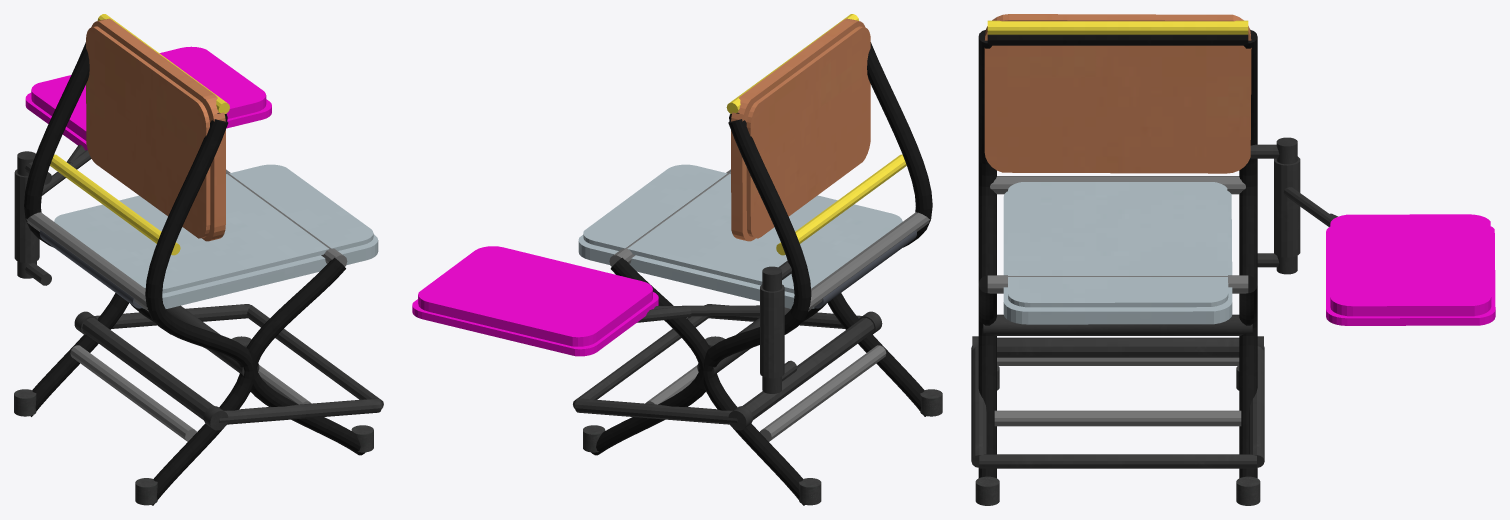
File: Chair_Folding_chair__0195.glb
The picture shows the model from 3 angles, left to right: view 1: azimuth 30°, elevation 25°; view 2: azimuth 150°, elevation 25°; view 3: azimuth 270°, elevation 25°; orthographic projection. The views are drawn at different scales.
Parts seen in each view (by area): view 1: seat_pan::seat_pad, rear_leg_frame::backrest_pad, rear_leg_frame::rear_upright_l, tablet_arm::tablet_board, rear_leg_frame::rear_upright_r, front_leg_frame::front_leg_l, side_links::side_link_axle, side_links::side_link_l, rear_leg_frame::seat_hinge_bar, rear_leg_frame::rear_cross_brace, tablet_arm::tablet_hinge_sleeve, rear_leg_frame::back_mount_lower (+12 smaller); view 2: seat_pan::seat_pad, rear_leg_frame::backrest_pad, tablet_arm::tablet_board, rear_leg_frame::rear_upright_r, rear_leg_frame::rear_upright_l, tablet_arm::tablet_hinge_sleeve, front_leg_frame::front_leg_r, side_links::side_link_axle, side_links::side_link_r, rear_leg_frame::seat_hinge_bar, rear_leg_frame::rear_cross_brace, rear_leg_frame::back_mount_lower (+7 smaller); view 3: rear_leg_frame::backrest_pad, seat_pan::seat_pad, tablet_arm::tablet_board, side_links::side_link_axle, front_leg_frame::front_cross_brace, side_links::link_front_crossbar, rear_leg_frame::back_mount_upper, rear_leg_frame::scissor_bolt, rear_leg_frame::back_rail_top, rear_leg_frame::rear_upright_l, tablet_arm::tablet_hinge_sleeve, rear_leg_frame::rear_upright_r (+10 smaller).
Part boxes in pixels (<box>): seat_pan::seat_pad: <box>54,164,378,308</box>; rear_leg_frame::backrest_pad: <box>86,18,225,241</box>; rear_leg_frame::rear_upright_l: <box>145,119,253,505</box>; tablet_arm::tablet_board: <box>25,46,271,150</box>; rear_leg_frame::rear_upright_r: <box>24,42,128,416</box>; front_leg_frame::front_leg_l: <box>246,257,365,455</box>; side_links::side_link_axle: <box>82,318,213,420</box>; side_links::side_link_l: <box>219,398,381,424</box>; rear_leg_frame::seat_hinge_bar: <box>26,212,148,311</box>; rear_leg_frame::rear_cross_brace: <box>70,345,196,441</box>; tablet_arm::tablet_hinge_sleeve: <box>14,144,91,263</box>; rear_leg_frame::back_mount_lower: <box>50,154,180,255</box>; seat_pan::seat_pad: <box>578,164,902,308</box>; rear_leg_frame::backrest_pad: <box>731,18,870,241</box>; tablet_arm::tablet_board: <box>412,246,658,356</box>; rear_leg_frame::rear_upright_r: <box>703,119,811,505</box>; rear_leg_frame::rear_upright_l: <box>827,42,932,416</box>; tablet_arm::tablet_hinge_sleeve: <box>637,284,784,378</box>; front_leg_frame::front_leg_r: <box>591,257,710,455</box>; side_links::side_link_axle: <box>742,318,874,420</box>; side_links::side_link_r: <box>575,398,737,424</box>; rear_leg_frame::seat_hinge_bar: <box>808,212,930,311</box>; rear_leg_frame::rear_cross_brace: <box>760,345,886,441</box>; rear_leg_frame::back_mount_lower: <box>776,154,906,255</box>; rear_leg_frame::backrest_pad: <box>984,14,1251,173</box>; seat_pan::seat_pad: <box>1003,182,1232,324</box>; tablet_arm::tablet_board: <box>1326,214,1495,325</box>; side_links::side_link_axle: <box>997,337,1239,357</box>; front_leg_frame::front_cross_brace: <box>994,410,1241,426</box>; side_links::link_front_crossbar: <box>979,454,1256,468</box>; rear_leg_frame::back_mount_upper: <box>987,20,1248,34</box>; rear_leg_frame::scissor_bolt: <box>983,314,1252,335</box>; rear_leg_frame::back_rail_top: <box>987,34,1248,45</box>; rear_leg_frame::rear_upright_l: <box>978,30,996,282</box>; tablet_arm::tablet_hinge_sleeve: <box>1274,156,1337,257</box>; rear_leg_frame::rear_upright_r: <box>1239,29,1257,283</box>.
Bounding box in the file's own units: 0.527 × 0.6478 × 0.7421.
Materials: 9 (7 with a texture image).
